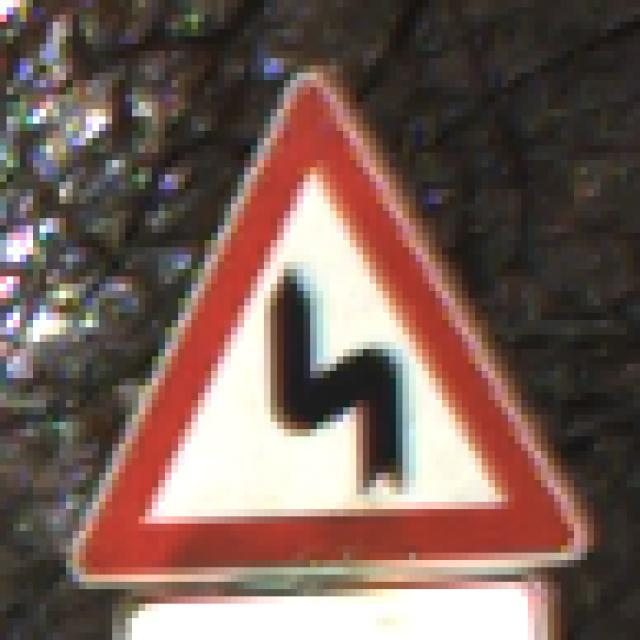left reverse bend: (76, 68, 577, 554)
